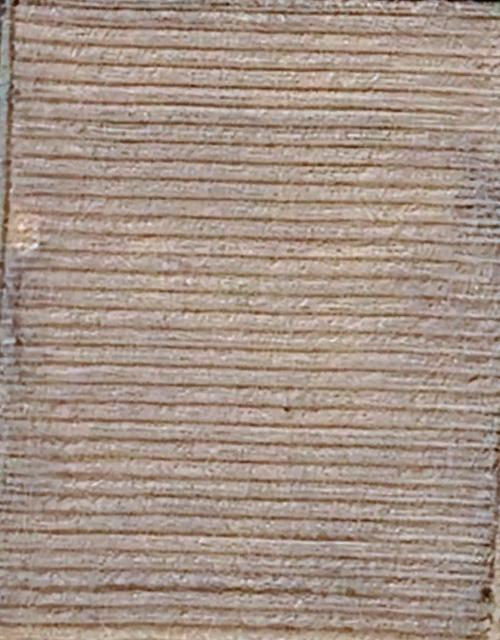Farms: (1, 2, 500, 639)
